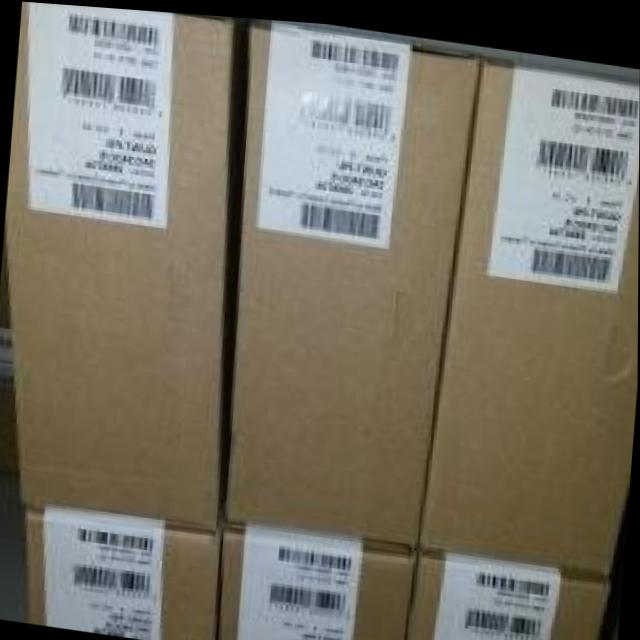box: (224, 15, 478, 537), (6, 1, 234, 517), (418, 49, 640, 565), (25, 504, 221, 640), (216, 515, 414, 640), (404, 540, 616, 640), (0, 359, 18, 475), (0, 237, 12, 360)
